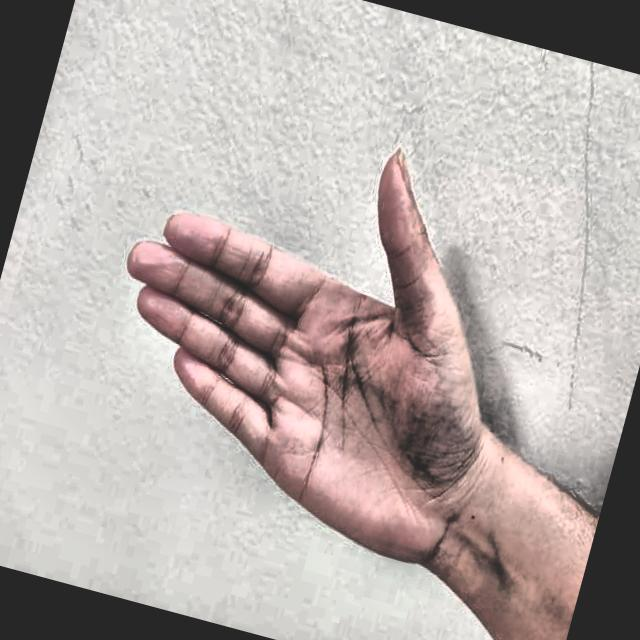Aa: (53, 61, 540, 587)
